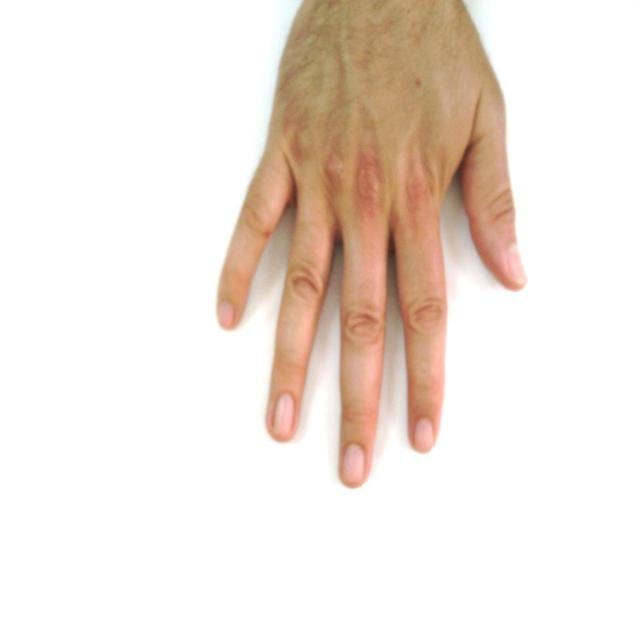Fingernail: (343, 444, 364, 485), (274, 394, 294, 436), (415, 419, 433, 452), (509, 246, 525, 281), (219, 302, 234, 329)
